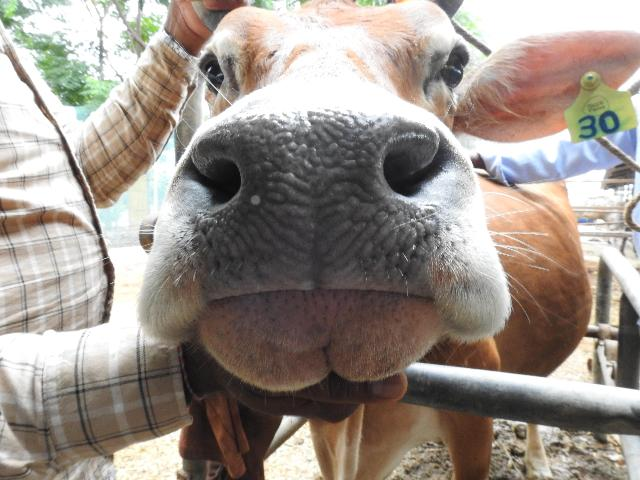Muzzle: (235, 123, 392, 285)
